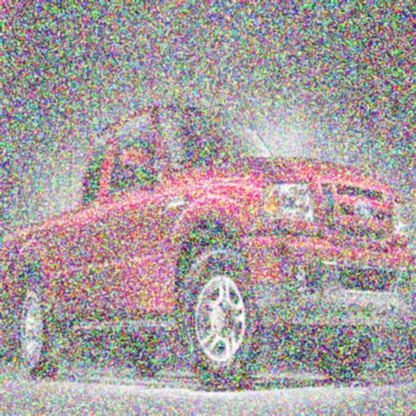Vehicle: (1, 104, 415, 395)
